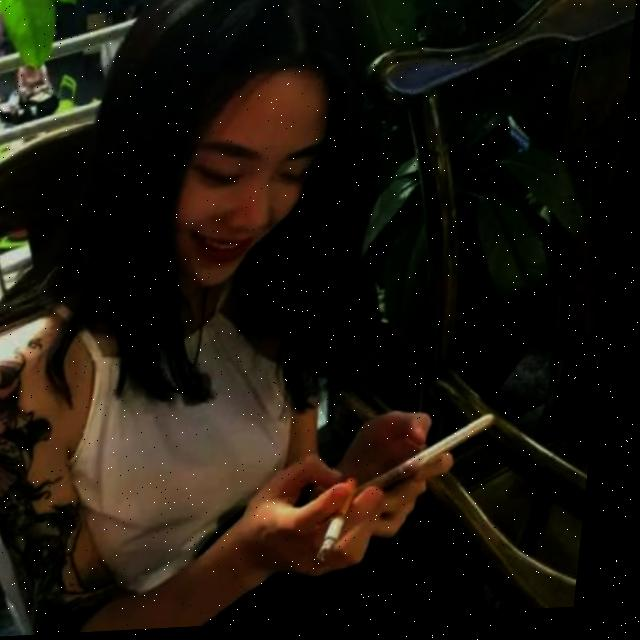cigarette: (327, 495, 368, 563)
